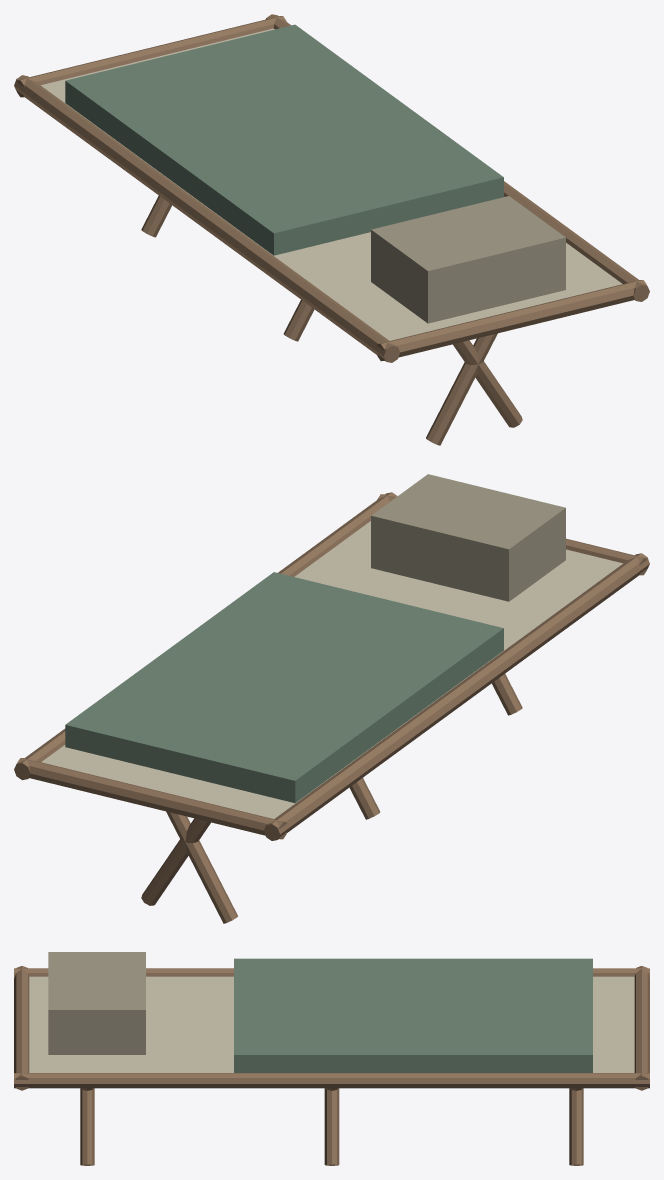
The model's file is furniture_cot.glb.
3 views of the same model, one above another, from view 1: azimuth 30°, elevation 25°; view 2: azimuth 150°, elevation 25°; view 3: azimuth 270°, elevation 25° (orthographic). The views are drawn at different scales.
Visible parts, largest first — view 1: Furniture_Cot; view 2: Furniture_Cot; view 3: Furniture_Cot.
Part boxes in pixels (x1=…): Furniture_Cot: x1=14, y1=14, x2=649, y2=445; Furniture_Cot: x1=14, y1=474, x2=649, y2=923; Furniture_Cot: x1=14, y1=952, x2=649, y2=1165.
Bounding box in the file's own units: 0.81 × 0.5761 × 1.95.
